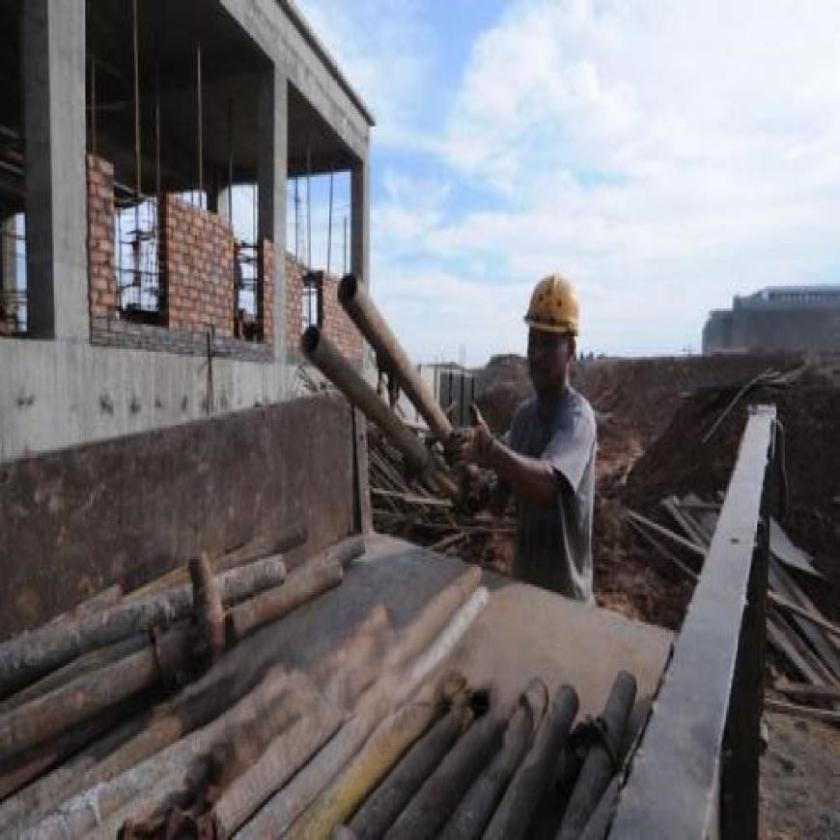Con_casco: (516, 266, 590, 395)
